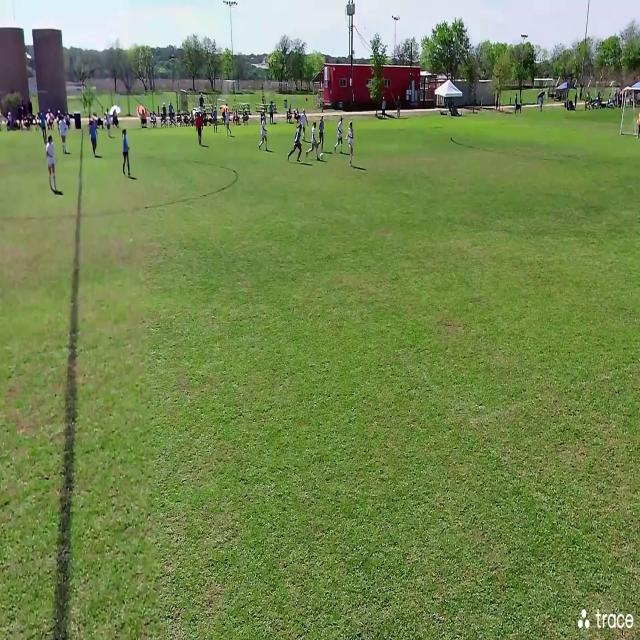ball: (320, 152, 324, 160)
team1: (288, 122, 302, 164), (121, 127, 131, 177), (91, 115, 102, 159), (40, 110, 49, 144), (212, 106, 218, 134), (320, 116, 324, 152)
team2: (44, 136, 59, 193), (259, 116, 270, 154), (336, 116, 346, 154), (61, 112, 70, 154), (348, 122, 356, 167), (310, 121, 318, 163), (222, 104, 231, 138), (105, 108, 113, 137), (302, 108, 308, 141)
